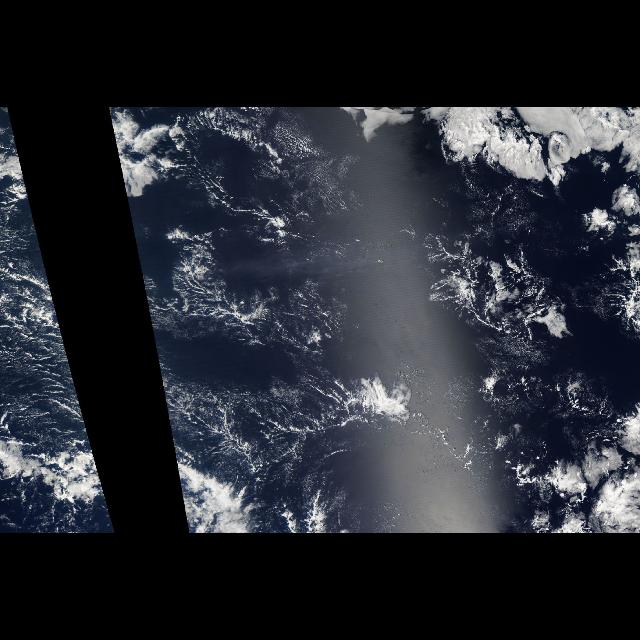Sugar: (142, 112, 430, 478), (0, 286, 96, 450)
